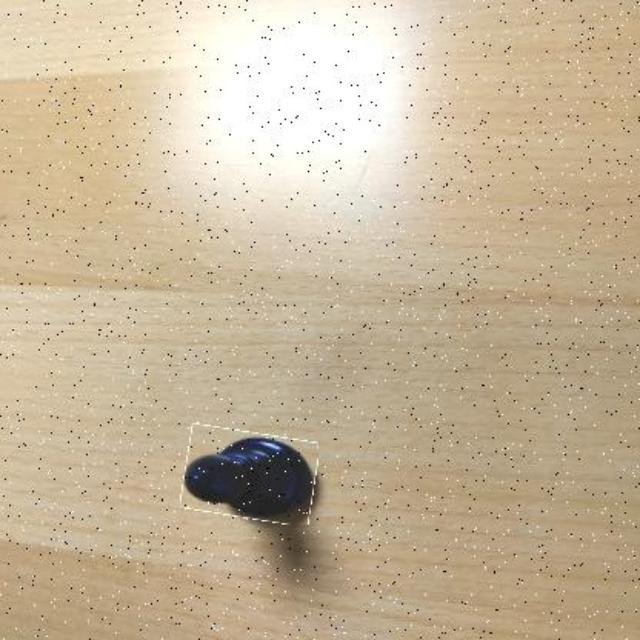black-pawn: (184, 428, 318, 521)
